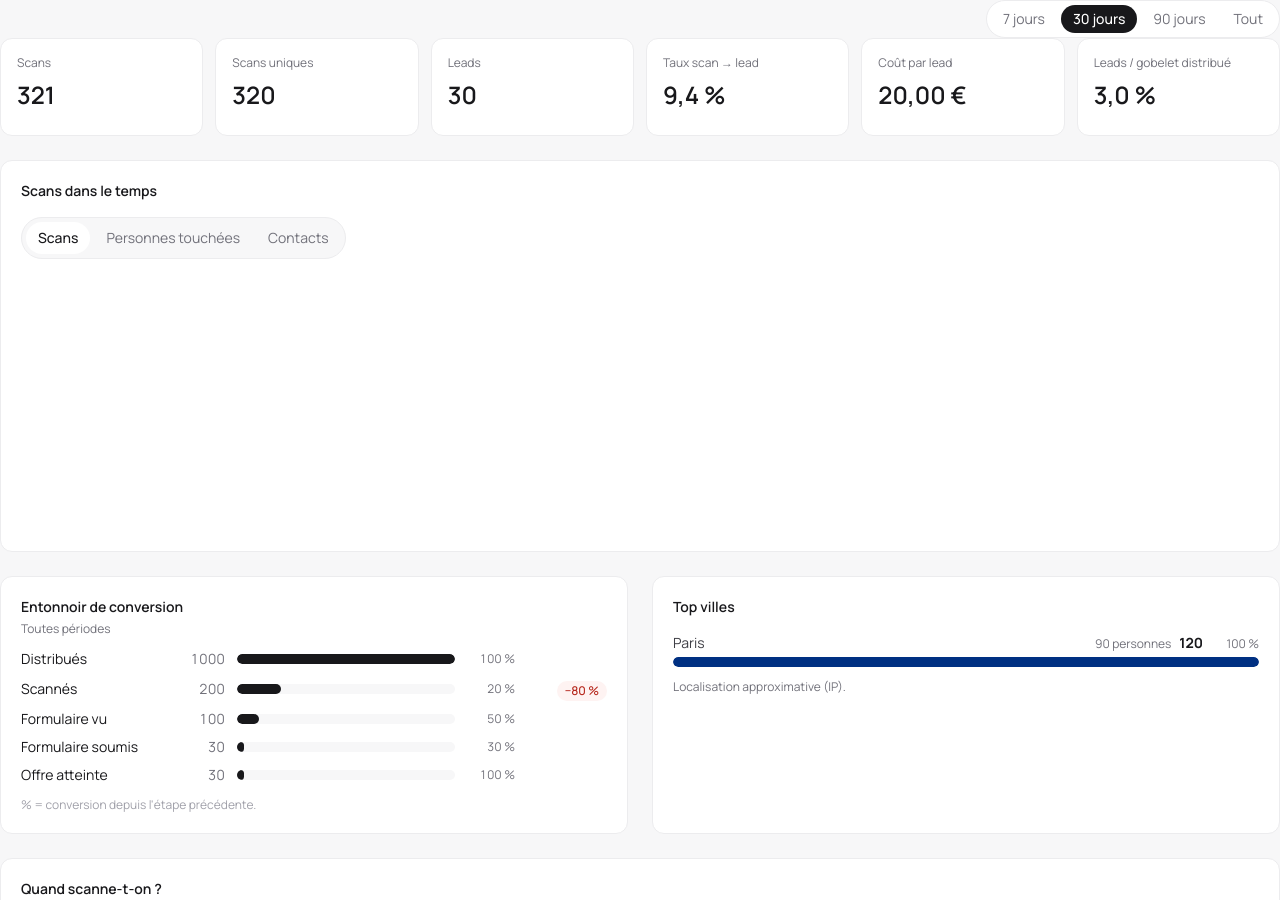
CampaignAnalyticsPanel › period switching › a failed second load shows the error and drops the first period data
This screenshot has width=1280, height=900.
expect the text "321" is shown: met, box [17, 78, 55, 111]
Click the button "7 jours": coordinates (1024, 19) [991, 5, 1057, 33]
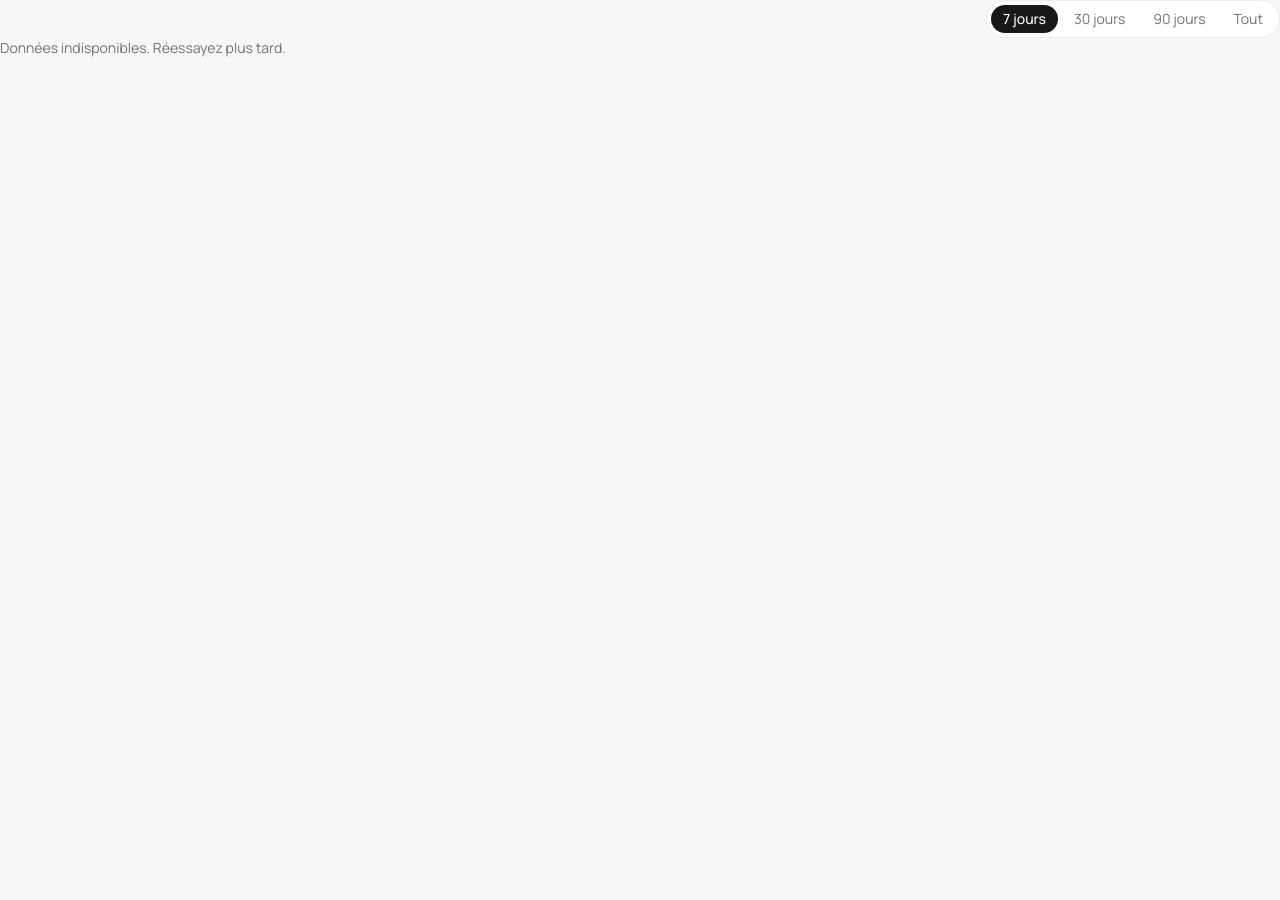
expect the text "Données indisponibles. Réessayez plus tard." is shown: met, box [0, 38, 286, 57]
expect the text "321" is gone: met
